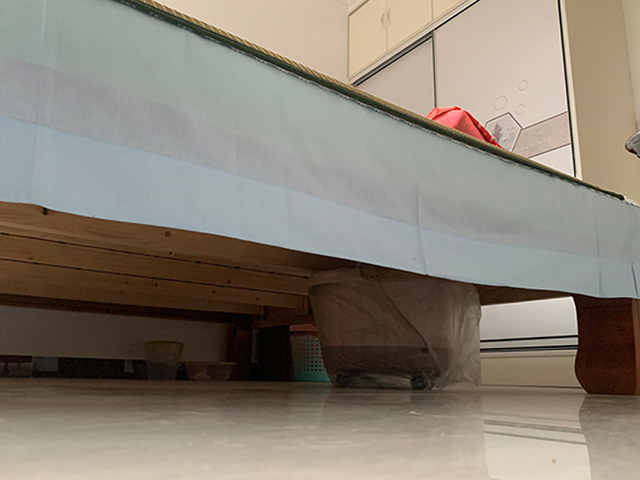bed: (1, 1, 638, 396)
trashcan: (289, 329, 327, 382)
